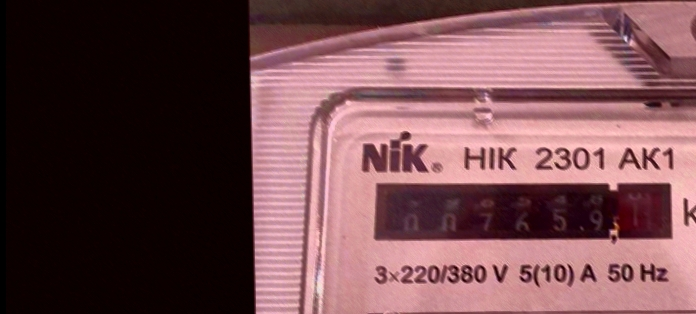0: (440, 209, 460, 234), (402, 209, 421, 235)
1: (629, 198, 644, 230)
5: (549, 204, 572, 232)
6: (513, 208, 533, 233)
7: (476, 209, 497, 234)
9: (587, 206, 606, 233)
screen: (364, 164, 684, 261)
